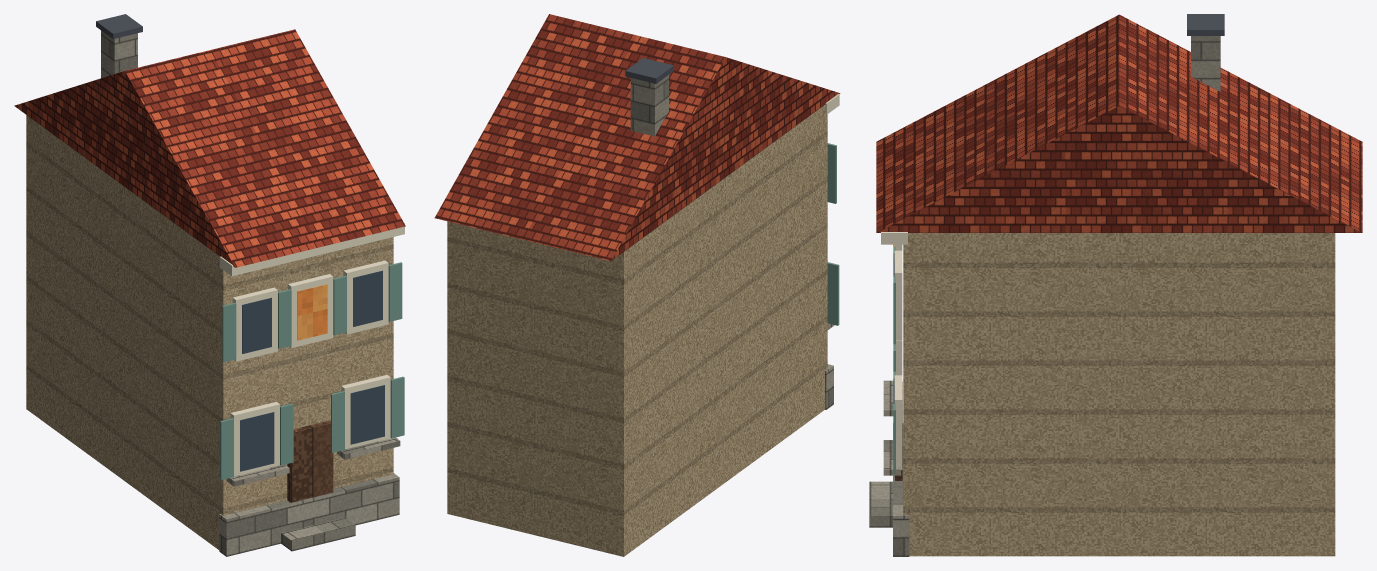
File: ENV_C_Facade_6.fbx
The picture shows the model from 3 angles, left to right: view 1: azimuth 30°, elevation 25°; view 2: azimuth 150°, elevation 25°; view 3: azimuth 270°, elevation 25°; orthographic projection. The views are drawn at different scales.
Visible parts, largest first — view 1: ENV_C_Facade_6; view 2: ENV_C_Facade_6; view 3: ENV_C_Facade_6.
Boxes of the visible parts, x1=… form: ENV_C_Facade_6: x1=14, y1=14, x2=405, y2=556; ENV_C_Facade_6: x1=434, y1=14, x2=840, y2=556; ENV_C_Facade_6: x1=869, y1=14, x2=1362, y2=556.
Size of the model in its own units: 430 by 942 by 913.
Materials: 9 (5 with a texture image).
